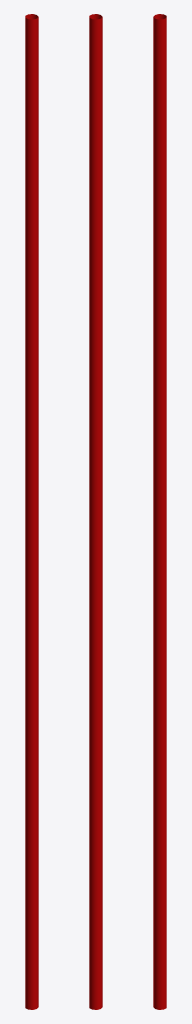
The model's file is Attic_Cable_01_LP_Splines_1.glb.
3 renders of one model, left to right at view 1: azimuth 30°, elevation 25°; view 2: azimuth 150°, elevation 25°; view 3: azimuth 330°, elevation 25°, orthographic.
Parts seen in each view (by area): view 1: Attic_Cable_01_LP_Splines_1; view 2: Attic_Cable_01_LP_Splines_1; view 3: Attic_Cable_01_LP_Splines_1.
Part boxes in pixels (left/top/right/bottom): Attic_Cable_01_LP_Splines_1: left=25, top=14, right=38, bottom=1009; Attic_Cable_01_LP_Splines_1: left=89, top=14, right=102, bottom=1009; Attic_Cable_01_LP_Splines_1: left=153, top=14, right=166, bottom=1009.
Size of the model in its own units: 0.0261 by 2.15 by 0.0257.
